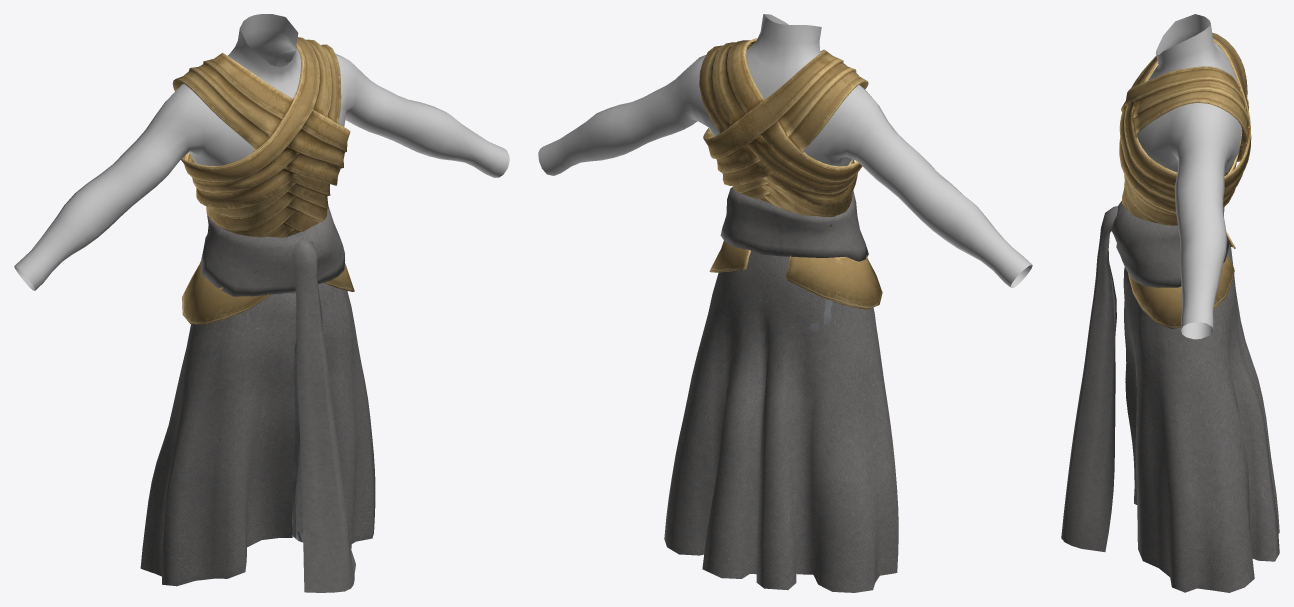
Rendered from rivendell_torso_infantry_tier1.fbx.
3 renders of one model, left to right at view 1: azimuth 30°, elevation 25°; view 2: azimuth 150°, elevation 25°; view 3: azimuth 270°, elevation 25°, orthographic. The views are drawn at different scales.
Parts seen in each view (by area): view 1: rivendell_torso_infantry_tier1.0, rivendell_torso_infantry_tier1.4, rivendell_torso_infantry_tier1.1, rivendell_torso_infantry_tier1.3, rivendell_torso_infantry_tier1.2; view 2: rivendell_torso_infantry_tier1.0, rivendell_torso_infantry_tier1.4, rivendell_torso_infantry_tier1.1, rivendell_torso_infantry_tier1.3, rivendell_torso_infantry_tier1.2; view 3: rivendell_torso_infantry_tier1.0, rivendell_torso_infantry_tier1.4, rivendell_torso_infantry_tier1.3, rivendell_torso_infantry_tier1.1, rivendell_torso_infantry_tier1.2.
Boxes of the visible parts, x1,y1,x2,y2 form: rivendell_torso_infantry_tier1.0: (140,283,375,586); rivendell_torso_infantry_tier1.4: (14,14,509,290); rivendell_torso_infantry_tier1.1: (172,37,350,273); rivendell_torso_infantry_tier1.3: (201,206,355,592); rivendell_torso_infantry_tier1.2: (182,260,354,324); rivendell_torso_infantry_tier1.0: (664,250,898,592); rivendell_torso_infantry_tier1.4: (538,14,1032,287); rivendell_torso_infantry_tier1.1: (699,38,868,226); rivendell_torso_infantry_tier1.3: (720,187,868,261); rivendell_torso_infantry_tier1.2: (709,241,882,309); rivendell_torso_infantry_tier1.0: (1123,244,1279,592); rivendell_torso_infantry_tier1.4: (1137,14,1241,339); rivendell_torso_infantry_tier1.3: (1061,201,1229,551); rivendell_torso_infantry_tier1.1: (1119,32,1251,225); rivendell_torso_infantry_tier1.2: (1128,230,1235,328).
Bounding box in the file's own units: 1.38 × 0.5499 × 1.46.
